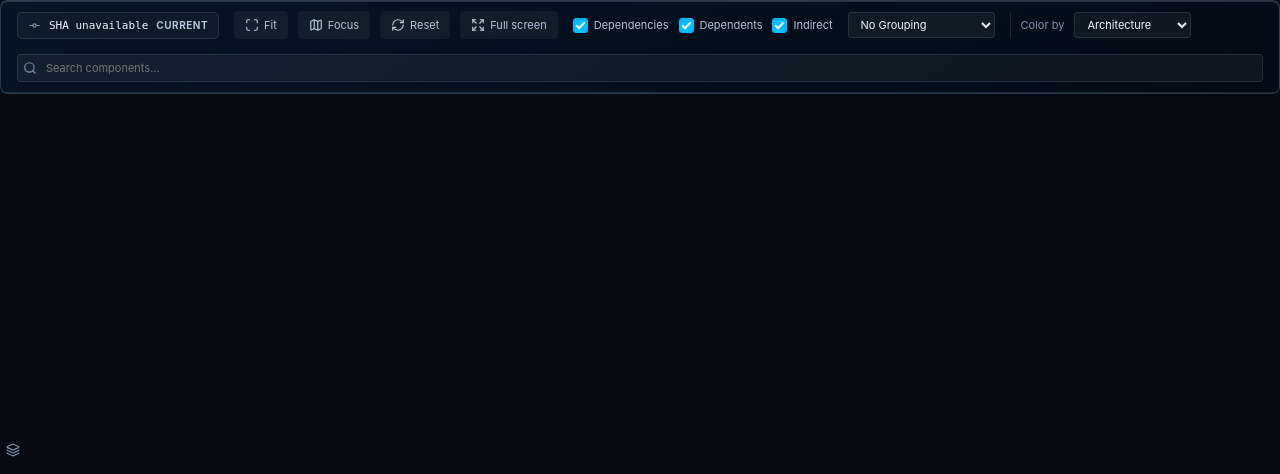
it: FullComponentMap Edge Rendering › switches color modes without changing the graph identity
Select "Change Impact" in the dropdown labelled "Color by" at (1133, 25), box x1=1074 y1=12 x2=1191 y2=38
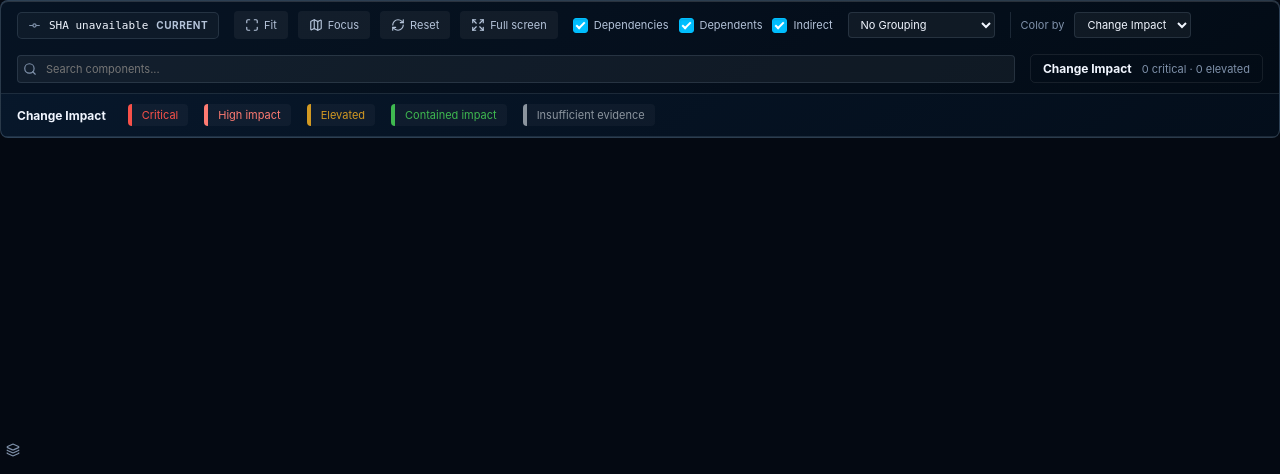
Expected: the element with class "full-component-map__legend" shows "Change Impact", x1=17 y1=108 x2=106 y2=122
